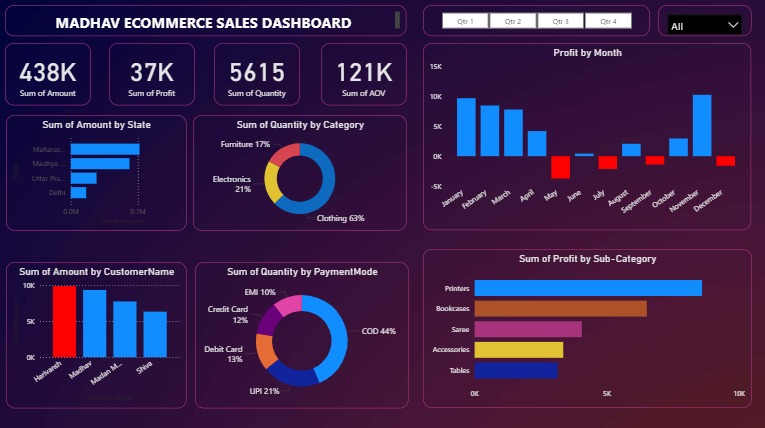

The page's visual inventory and layout, read from the dashboard file:
{"tool":"powerbi","page":{"name":"Page 1","canvas":[1280,720],"ordinal":0},"visuals":[{"type":"columnChart","title":"Profit by Month","fields":{"Category":["Orders.Order Date.Variation.Date Hierarchy.Month"],"Y":["Sum(Details.Profit)"]},"box":[709.9,74.9,547.2,312.5],"z":0},{"type":"barChart","fields":{"Category":["Details.Sub-Category"],"Y":["Sum(Details.Profit)"]},"box":[710.6,418.3,547.6,265.4],"z":1000},{"type":"donutChart","fields":{"Category":["Details.Category"],"Y":["Sum(Details.Quantity)"]},"box":[325.9,194.9,356.1,193.2],"z":2000},{"type":"donutChart","fields":{"Y":["Sum(Details.Quantity)"],"Category":["Details.PaymentMode"]},"box":[329.2,440.1,356.1,243.6],"z":3000},{"type":"card","fields":{"Values":["Sum(Details.Amount)"]},"box":[13,74.9,142.6,103.7],"z":4000},{"type":"card","fields":{"Values":["Sum(Details.Profit)"]},"box":[187.2,74.9,142.6,103.7],"z":5000},{"type":"card","fields":{"Values":["Sum(Details.Quantity)"]},"box":[361.4,74.9,142.6,103.7],"z":6000},{"type":"card","fields":{"Values":["Sum(Details.AOV)"]},"box":[540,74.9,142.6,103.7],"z":7000},{"type":"barChart","fields":{"Category":["Orders.State"],"Y":["Sum(Details.Amount)"]},"box":[15.1,194.9,300.7,193.2],"z":8000},{"type":"columnChart","fields":{"Category":["Orders.CustomerName"],"Y":["Sum(Details.Amount)"]},"box":[15.1,440.1,300.7,243.6],"z":9000},{"type":"slicer","fields":{"Values":["Orders.Order Date.Variation.Date Hierarchy.Quarter"]},"box":[710.6,11.8,378,52.1],"z":10000},{"type":"slicer","fields":{"Values":["Orders.State"]},"box":[1101.9,11.8,156.2,52.1],"z":11000},{"type":"textbox","box":[13.4,11.8,668.6,52.1],"z":12000}]}

Visuals, with their boxes in screenshot pixels (x1, y1, x2, y2), scaled from the page's 1280x720 canvas onto the 765x428 screenshot:
"Profit by Month" columnChart: (424, 45, 751, 230)
barChart - Details.Sub-Category x Sum(Details.Profit): (425, 249, 752, 406)
donutChart - Details.Category x Sum(Details.Quantity): (195, 116, 408, 231)
donutChart - Sum(Details.Quantity) x Details.PaymentMode: (197, 262, 410, 406)
card - Sum(Details.Amount): (8, 45, 93, 106)
card - Sum(Details.Profit): (112, 45, 197, 106)
card - Sum(Details.Quantity): (216, 45, 301, 106)
card - Sum(Details.AOV): (323, 45, 408, 106)
barChart - Orders.State x Sum(Details.Amount): (9, 116, 189, 231)
columnChart - Orders.CustomerName x Sum(Details.Amount): (9, 262, 189, 406)
slicer - Orders.Order Date.Variation.Date Hierarchy.Quarter: (425, 7, 651, 38)
slicer - Orders.State: (659, 7, 752, 38)
textbox: (8, 7, 408, 38)
